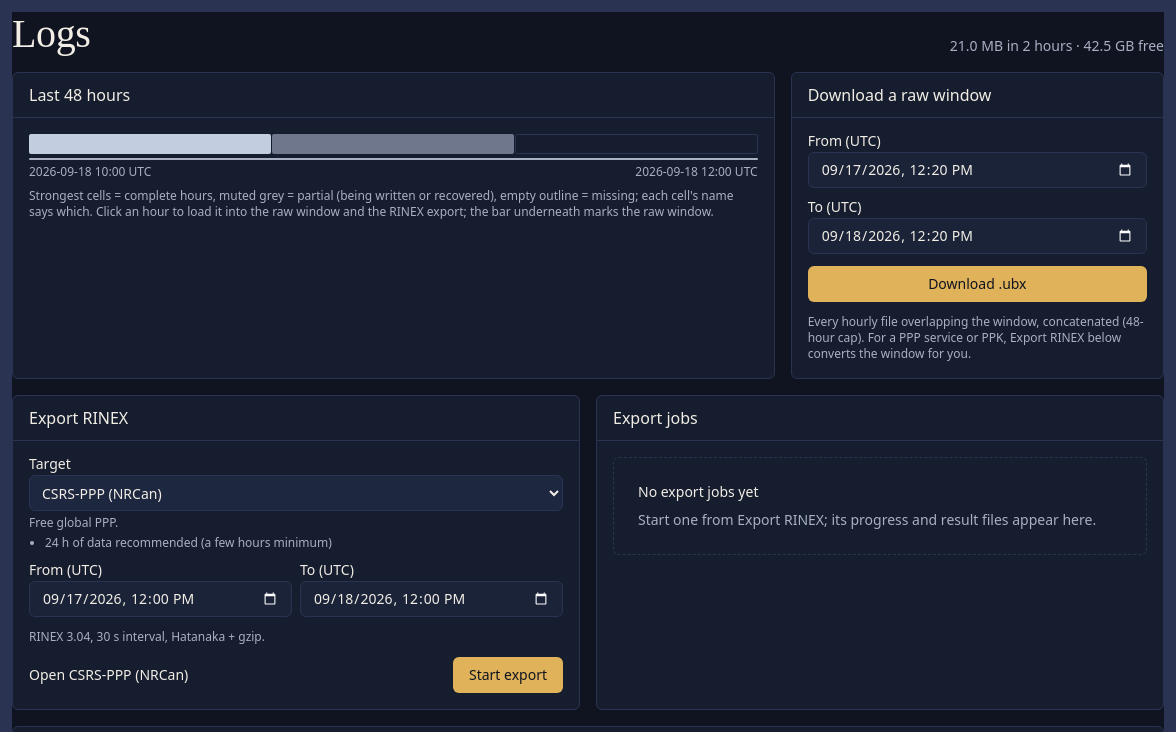
it: Logs page — window download and availability › defaults to the last 24 hours and refuses a window over 48 hours client-side
Expected: the field labelled "To (UTC)" below "Download a raw window" holds "2026-09-18T12:20", [808, 218, 1147, 254]
Replace the text in the field labelled "From (UTC)" below "Download a raw window" with "2026-09-16T00:00" at (977, 170), box [808, 152, 1147, 188]
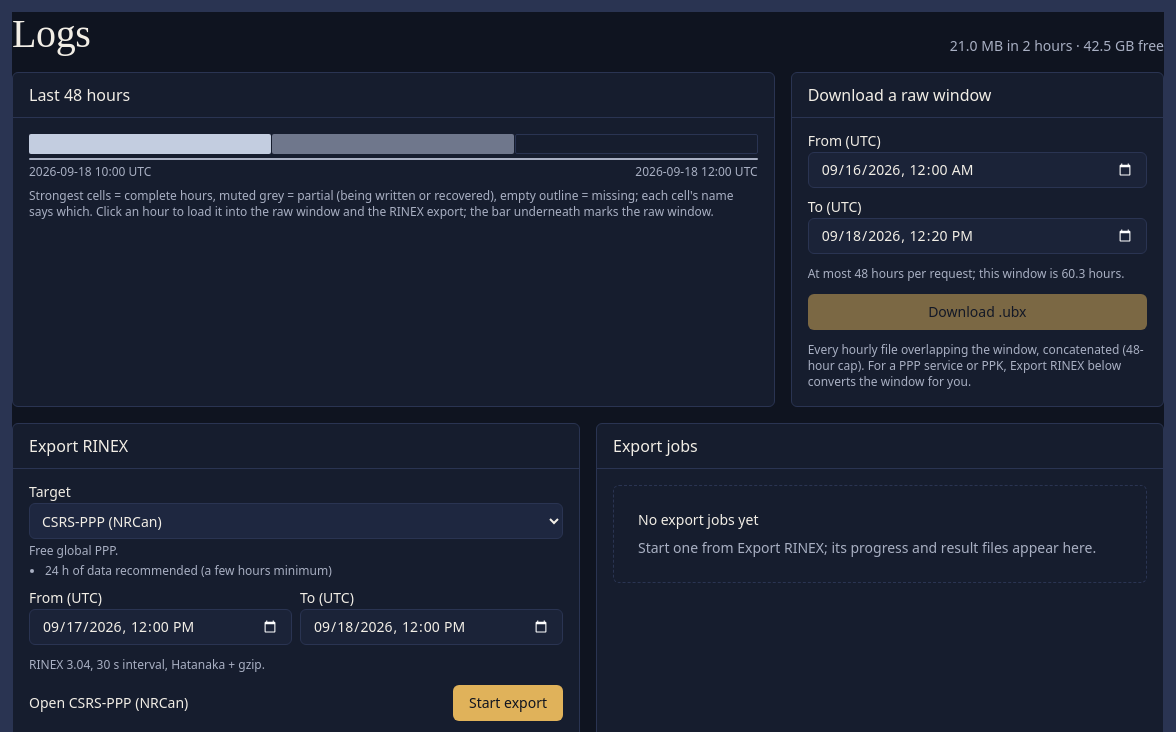
Now the button "Download .ubx" is disabled, box [808, 294, 1147, 330]
Now the text "At most 48 hours per request; this window is 60.3 hours." is shown, box [808, 266, 1147, 282]
Replace the text in the field labelled "From (UTC)" below "Download a raw window" with "2026-09-18T13:00" at (977, 170), box [808, 152, 1147, 188]
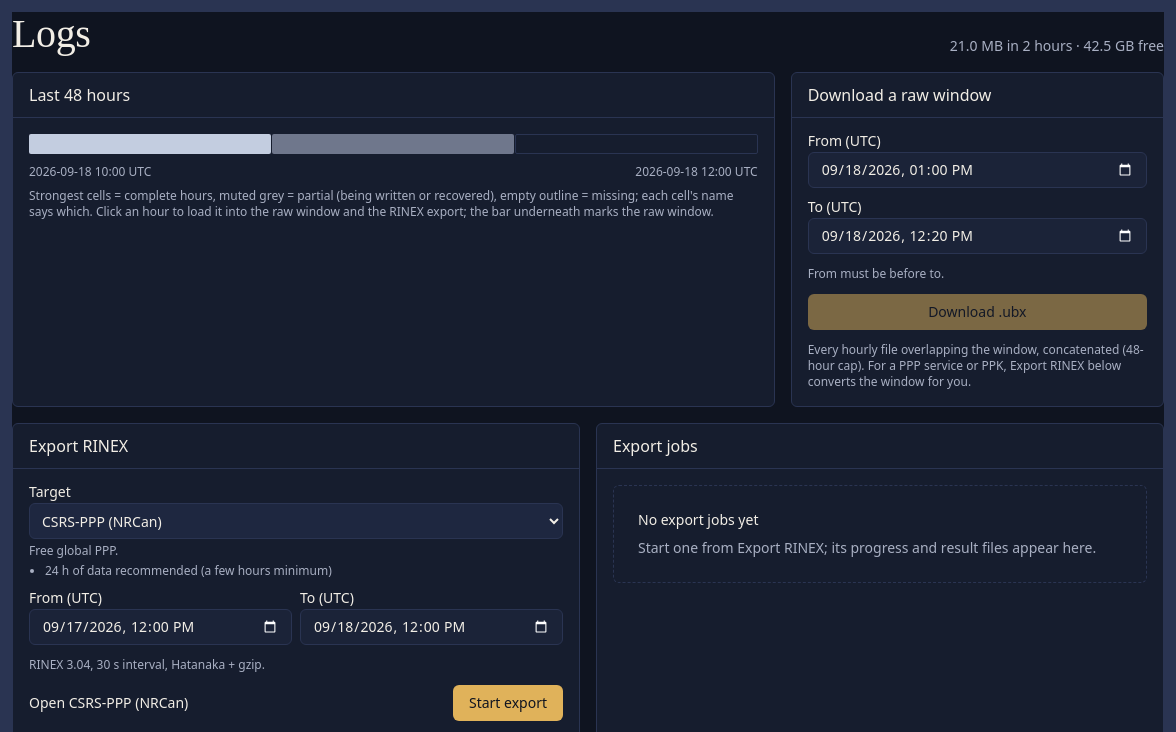
Now the button "Download .ubx" is disabled, box [808, 294, 1147, 330]
Now the text "From must be before to." is shown, box [808, 265, 944, 282]
